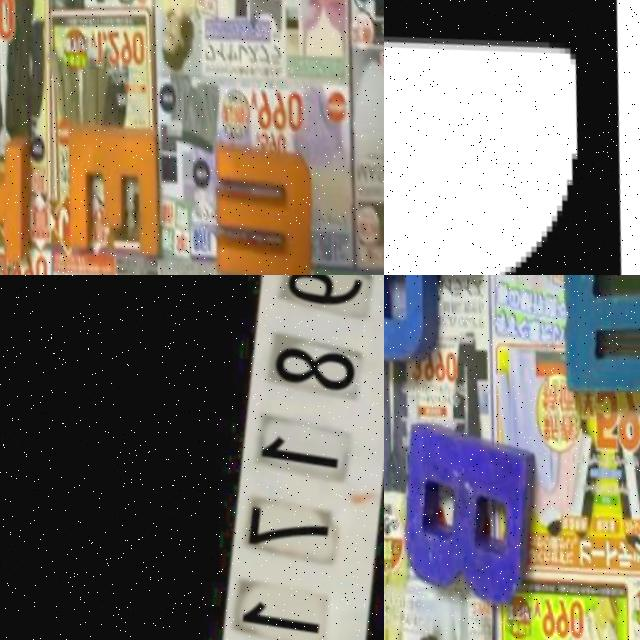1: (241, 410, 342, 486), (216, 574, 317, 640)
7: (226, 490, 329, 566)
8: (255, 328, 360, 406)
9: (269, 275, 366, 320)
B: (384, 419, 533, 616)
E: (45, 125, 161, 263)
I: (0, 129, 28, 263)
L: (384, 0, 640, 275)
M: (543, 275, 640, 413)
P: (384, 275, 483, 371)
W: (192, 149, 313, 275)
